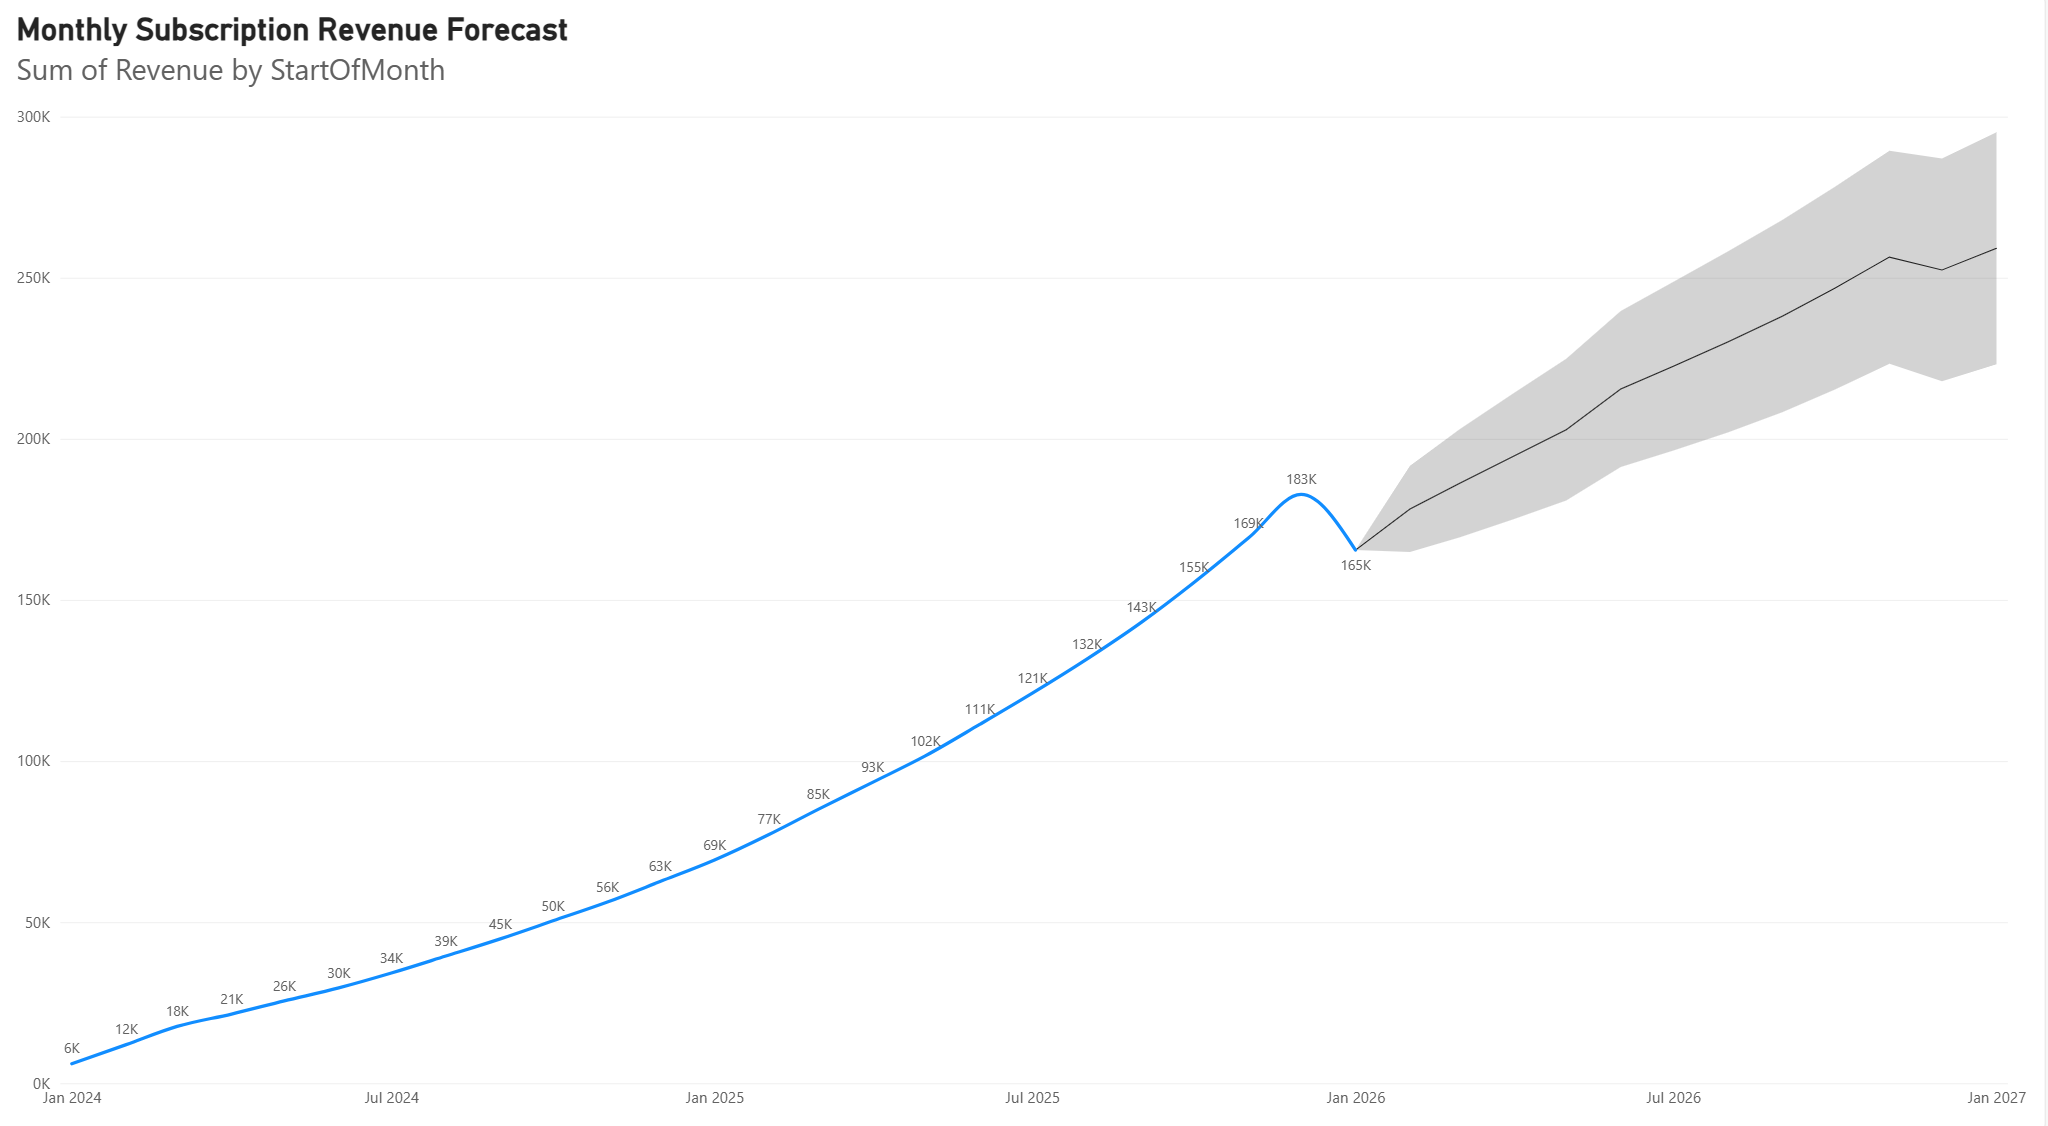

Layout of this report page (visuals, bound fields, positions):
{"tool":"powerbi","page":{"name":"Revenue Forecast","canvas":[1920,1080],"ordinal":1},"visuals":[{"type":"lineChart","title":"Monthly Subscription Revenue Forecast","fields":{"Category":["dim_date.StartOfMonth"],"Y":["Sum(transactions.Revenue)"]},"box":[10.5,0,1886.6,1048.7],"z":0}]}

Visuals, with their boxes in screenshot pixels (x1, y1, x2, y2), scaled from the page's 1920x1080 canvas onto the 2048x1126 screenshot:
"Monthly Subscription Revenue Forecast" lineChart: box(11, 0, 2024, 1093)
